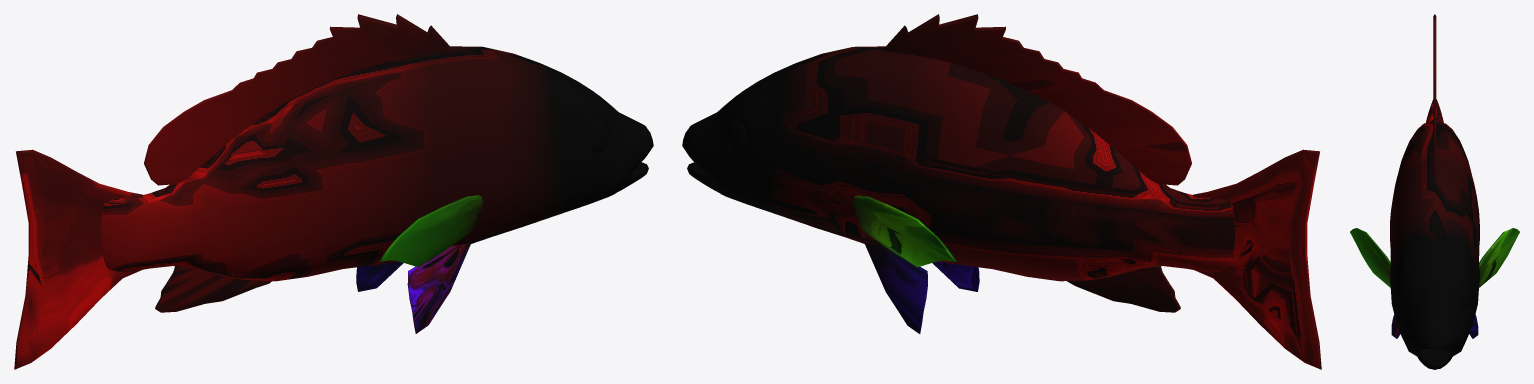
Rendered from sat-fish-2.glb.
The picture shows the model from 3 angles, left to right: view 1: azimuth 30°, elevation 25°; view 2: azimuth 150°, elevation 25°; view 3: azimuth 270°, elevation 25°; orthographic projection. The views are drawn at different scales.
Visible parts, largest first — view 1: fish_vertColor_low; view 2: fish_vertColor_low; view 3: fish_vertColor_low.
Part boxes in pixels (x1,y1,x2,y2): fish_vertColor_low: [14, 14, 653, 369]; fish_vertColor_low: [682, 14, 1321, 369]; fish_vertColor_low: [1350, 14, 1519, 369].
Bounding box in the file's own units: 1 × 0.4597 × 0.3122.
Materials: 1 (1 with a texture image).
